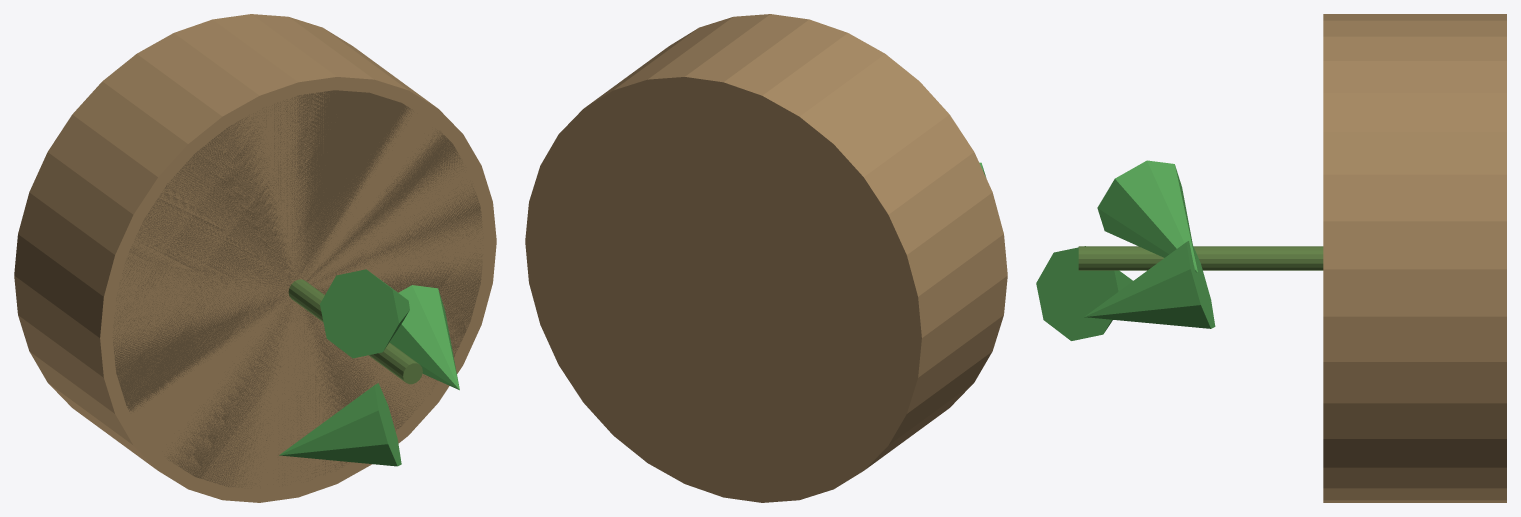
Rendered from stage_2_piantina.glb.
The picture shows the model from 3 angles, left to right: view 1: azimuth 30°, elevation 25°; view 2: azimuth 150°, elevation 25°; view 3: azimuth 270°, elevation 25°; orthographic projection. The views are drawn at different scales.
Parts seen in each view (by area): view 1: world; view 2: world; view 3: world.
Boxes of the visible parts, box(x1,y1,x2,y2) form: world: box(14, 14, 496, 502); world: box(525, 14, 1007, 502); world: box(1036, 14, 1506, 502).
Bounding box in the file's own units: 16 × 16 × 15.39.
